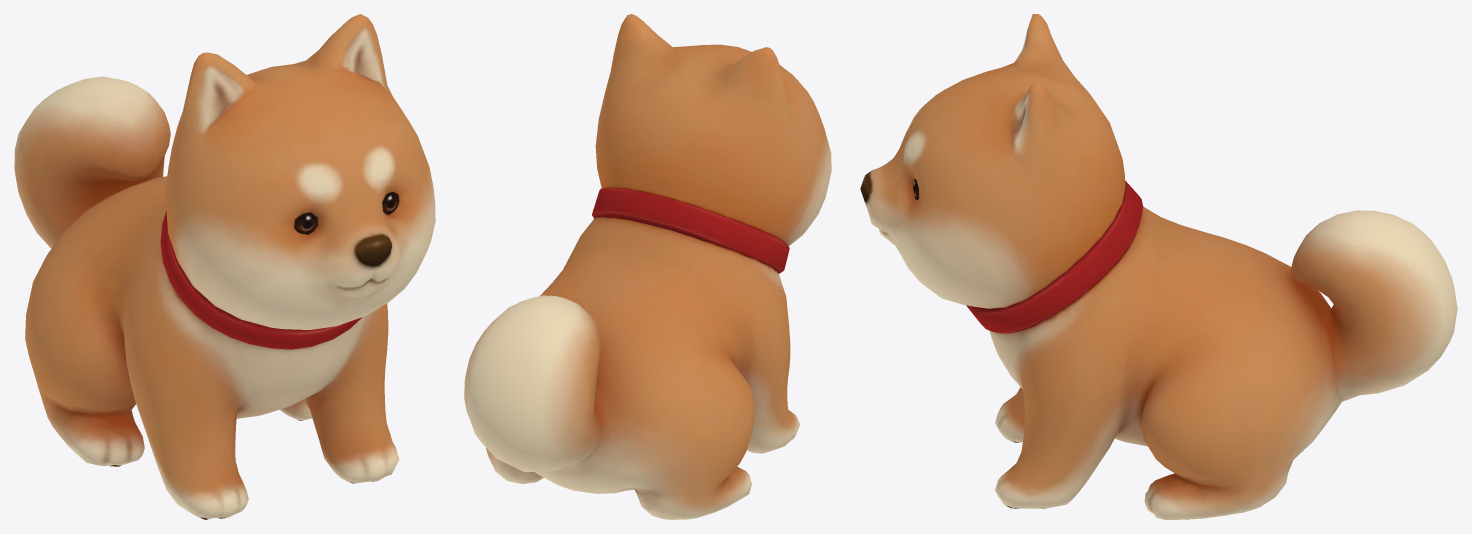
File: shiba.glb
3 renders of one model, left to right at view 1: azimuth 30°, elevation 25°; view 2: azimuth 150°, elevation 25°; view 3: azimuth 270°, elevation 25°, orthographic. The views are drawn at different scales.
Parts seen in each view (by area): view 1: Box002, Group18985, Object001_default_0; view 2: Box002, Group18985; view 3: Box002, Group18985.
Part boxes in pixels (x1,y1,x2,y2): Box002: (14,14,435,519); Group18985: (160,211,362,349); Object001_default_0: (294,192,399,234); Box002: (464,14,831,519); Group18985: (592,188,789,273); Box002: (860,14,1457,519); Group18985: (966,181,1143,333).
Bounding box in the file's own units: 0.9209 × 1.38 × 1.77.
1 material, 1 textured.
